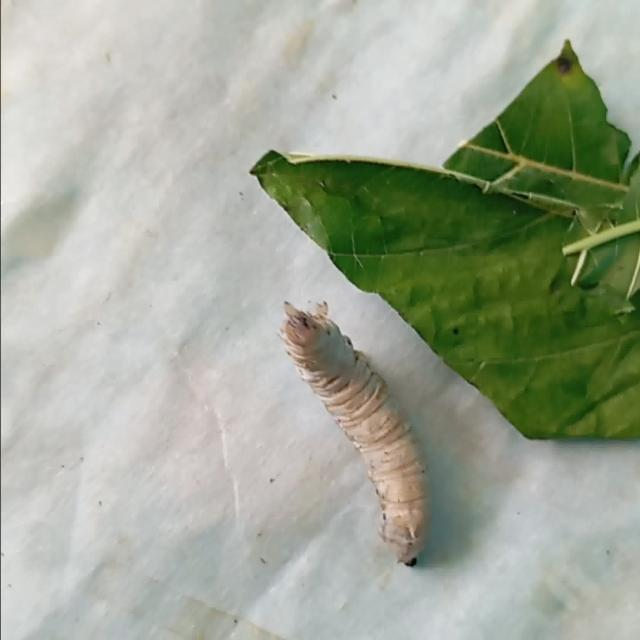Grasserie: (245, 267, 472, 579)
